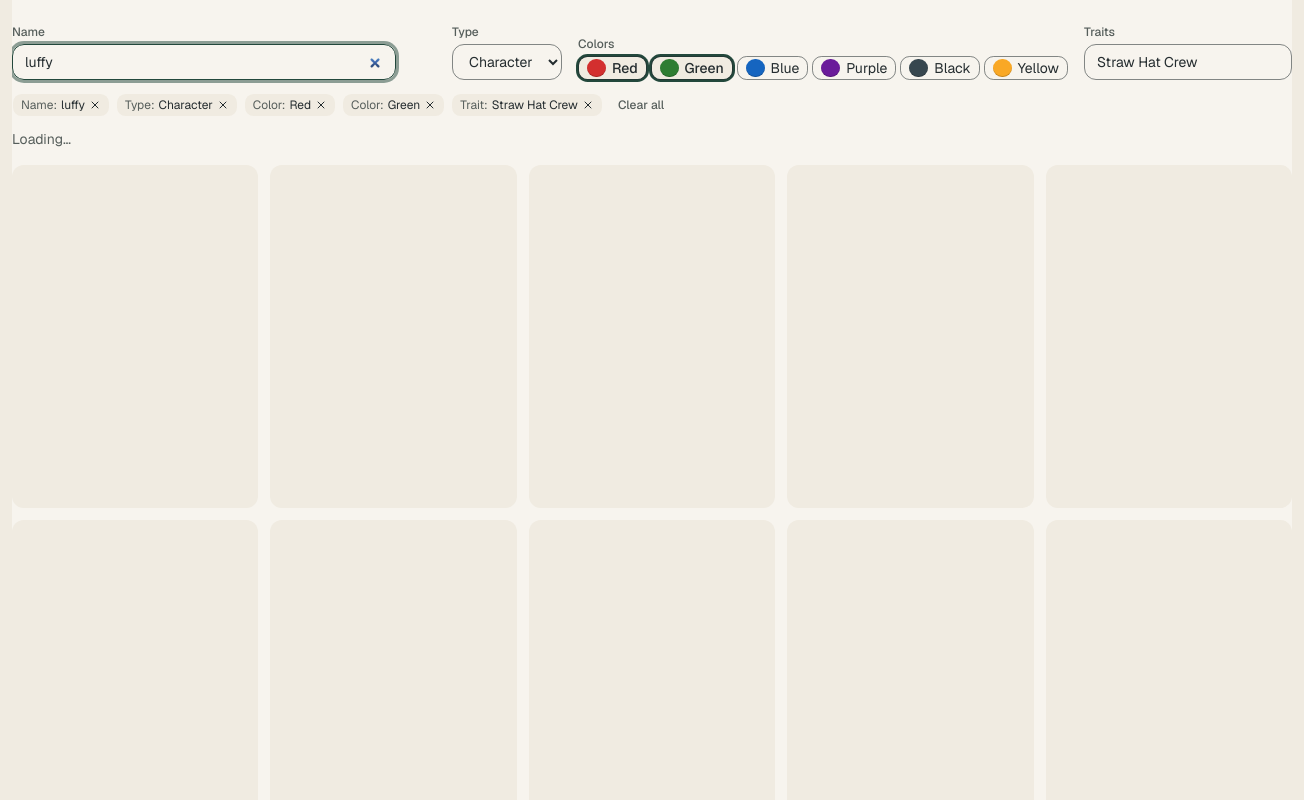
Test: CardSearch — groups, chips, skeleton › preset filters land as chips; removing one and Clear all re-search
This screenshot has width=1304, height=800.
Expected: the element "Traits" is shown, [1084,24,1292,80]
Expected: the button "Clear all" is shown, [609,92,673,116]
Click the button with aria-label "Remove filter: Color Red" at (290,105), box [244,93,336,117]
Wait 250 ms
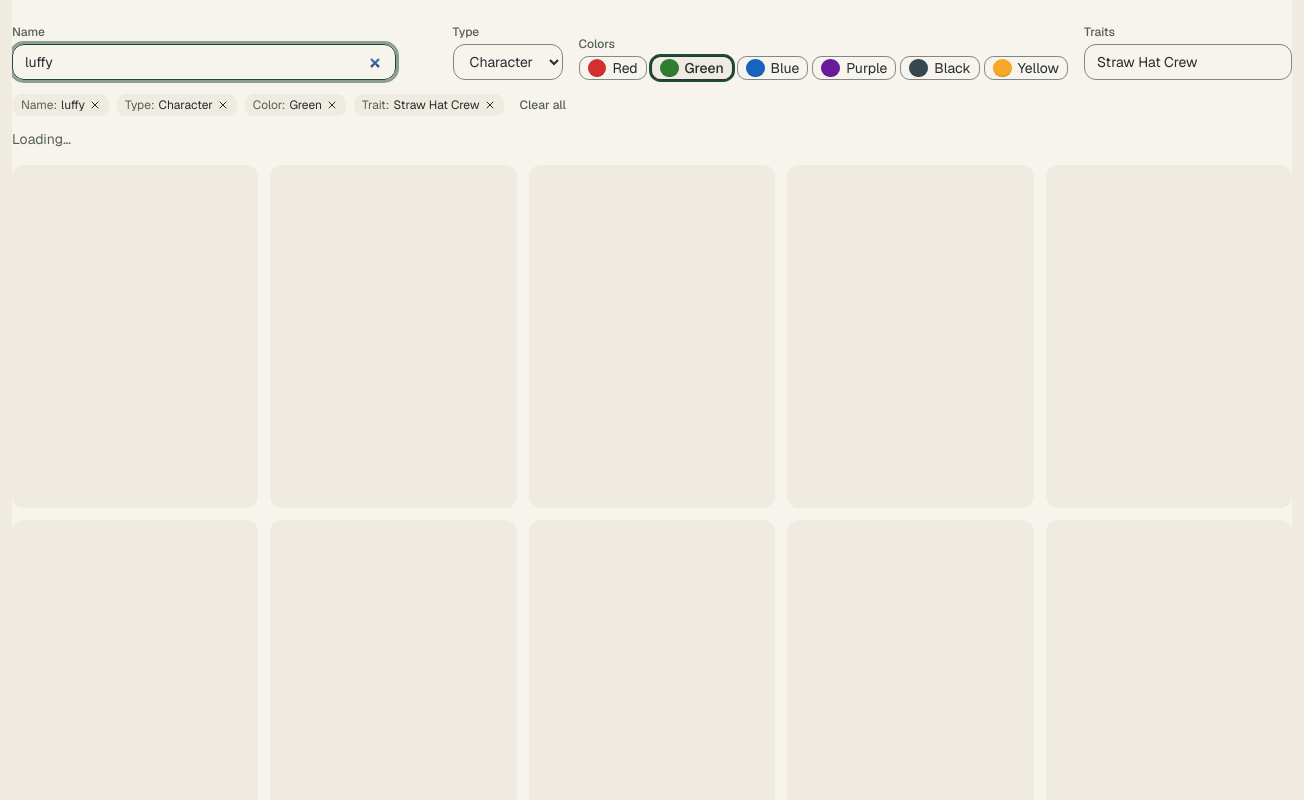
Result: the button "Red" is not pressed at [578,56,647,80]
Click the button "Clear all" at (543,104), box [511,92,575,116]
Wait 250 ms
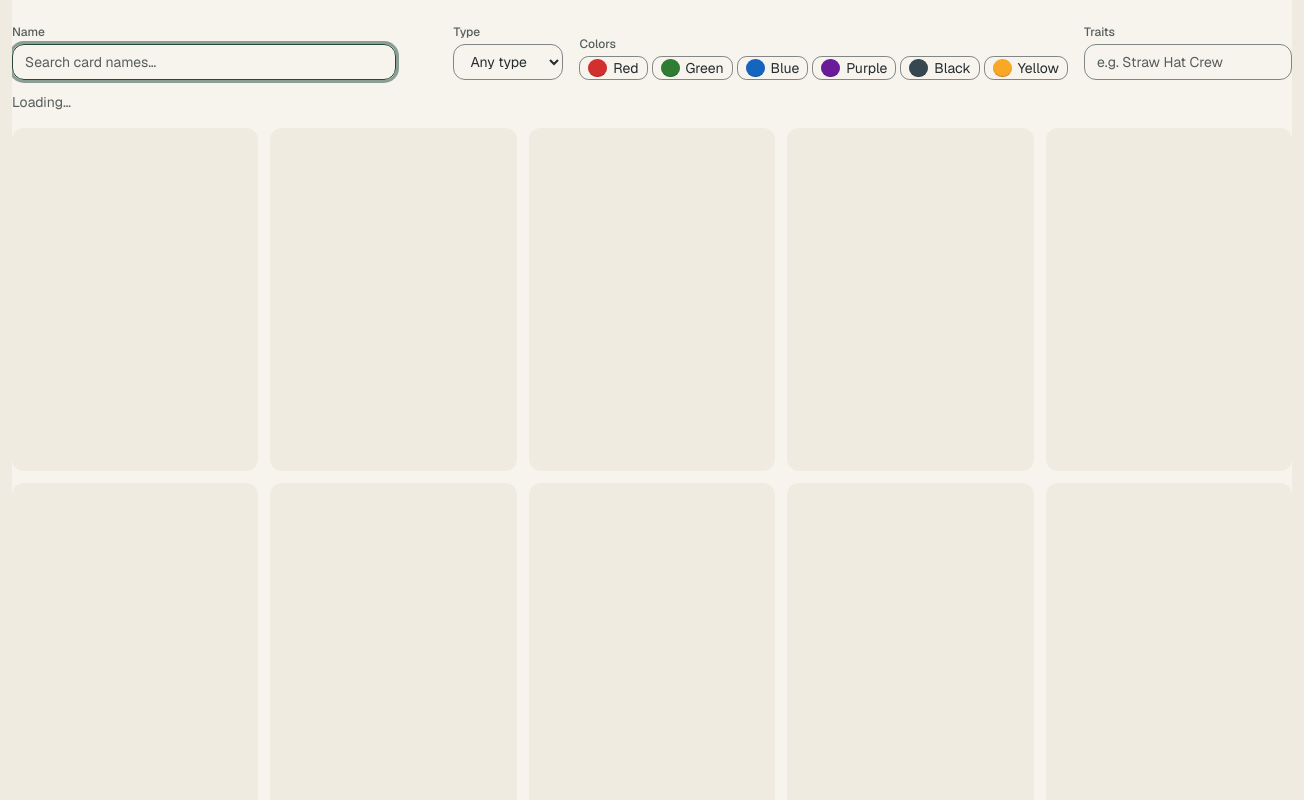
Result: the dropdown labelled "card name" is empty at [12,44,396,80]
